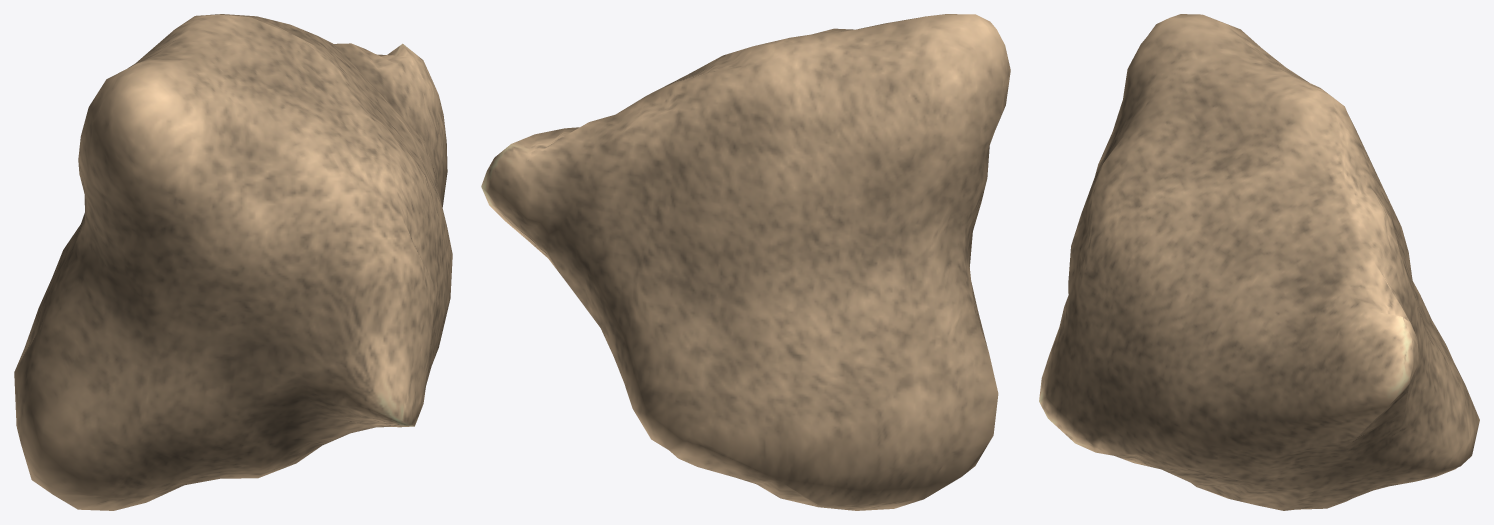
The model's file is asteroid.glb.
The picture shows the model from 3 angles, left to right: view 1: azimuth 30°, elevation 25°; view 2: azimuth 150°, elevation 25°; view 3: azimuth 270°, elevation 25°; orthographic projection. The views are drawn at different scales.
Visible parts, largest first — view 1: Mesh_0; view 2: Mesh_0; view 3: Mesh_0.
Part boxes in pixels (box(x1,y1,x2,y2)): Mesh_0: box(14, 14, 452, 510); Mesh_0: box(481, 14, 1010, 510); Mesh_0: box(1039, 14, 1479, 510).
Bounding box in the file's own units: 120 × 116 × 103.
1 material, 1 textured.
